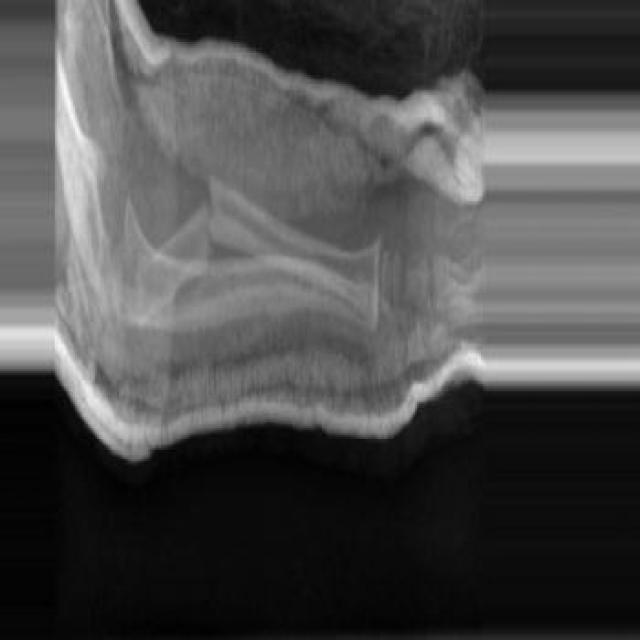Fracture: (194, 176, 220, 254)
